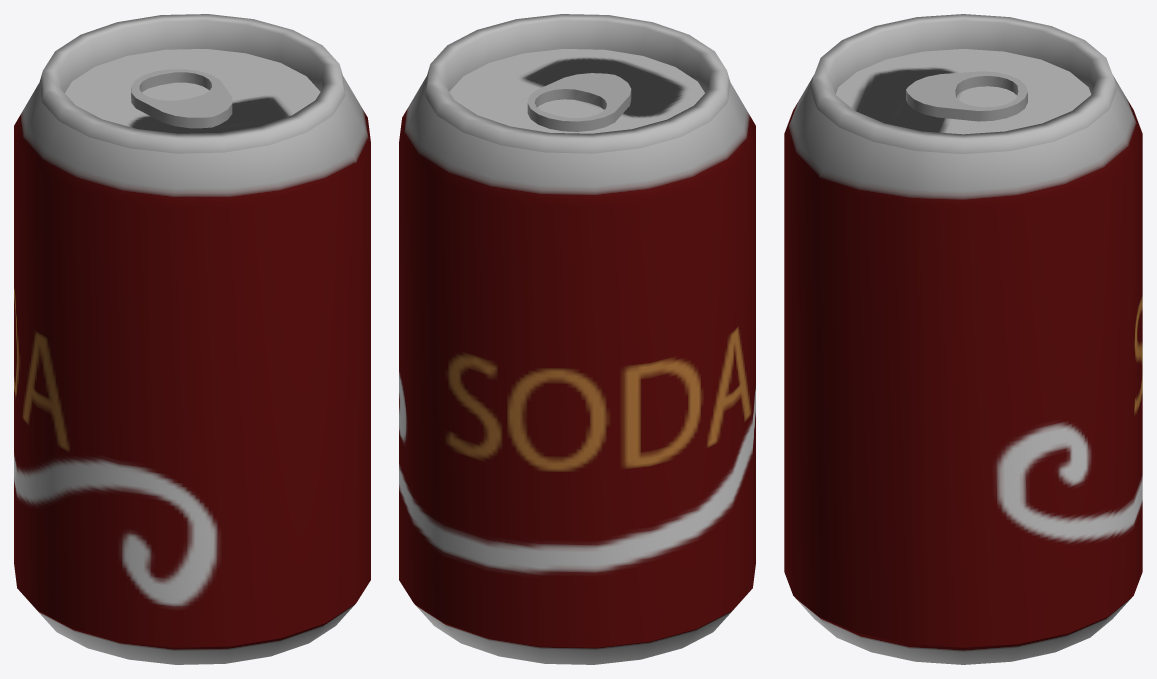
Rendered from Soda can.fbx.
3 renders of one model, left to right at view 1: azimuth 30°, elevation 25°; view 2: azimuth 150°, elevation 25°; view 3: azimuth 270°, elevation 25°, orthographic.
Visible parts, largest first — view 1: pCylinder10; view 2: pCylinder10; view 3: pCylinder10.
Part boxes in pixels (x1,y1,x2,y2): pCylinder10: (14, 14, 370, 664); pCylinder10: (399, 14, 755, 664); pCylinder10: (784, 14, 1142, 664).
Bounding box in the file's own units: 14.04 × 22.54 × 14.04.
Materials: 2 (1 with a texture image).
